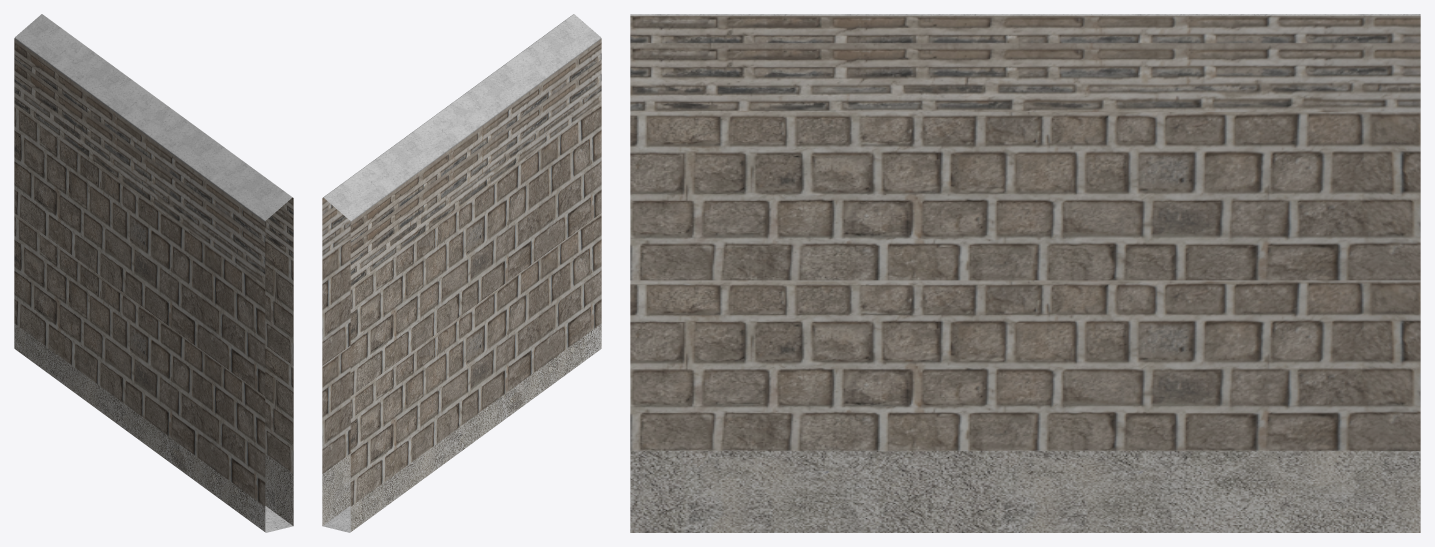
Rendered from SM_JSH_HG_StoneWallB.fbx.
The picture shows the model from 3 angles, left to right: view 1: azimuth 30°, elevation 25°; view 2: azimuth 150°, elevation 25°; view 3: azimuth 270°, elevation 25°; orthographic projection. The views are drawn at different scales.
Parts seen in each view (by area): view 1: SM_JSH_HG_StoneWallB; view 2: SM_JSH_HG_StoneWallB; view 3: SM_JSH_HG_StoneWallB.
Boxes of the visible parts, box(x1,y1,x2,y2) form: SM_JSH_HG_StoneWallB: box(14, 14, 293, 532); SM_JSH_HG_StoneWallB: box(322, 14, 601, 532); SM_JSH_HG_StoneWallB: box(630, 14, 1420, 532).
Size of the model in its own units: 16.75 by 257 by 186.
Materials: 1 (1 with a texture image).
